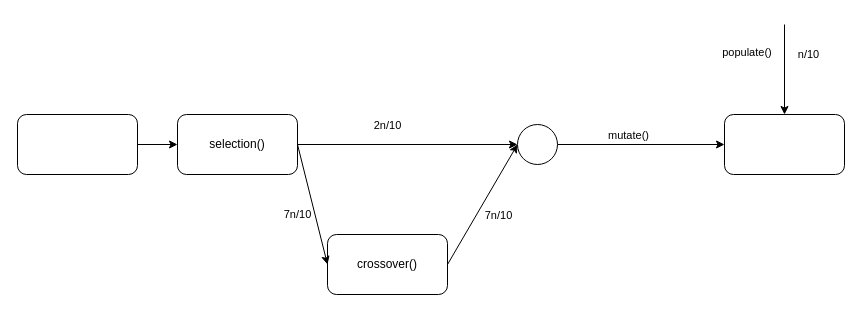
The diagram is 862 pixels wide and 312 high, and some of its shapes have lost their labels. The box of each missing label's shape, as (x1, y1, x2, y2) in pixels:
Gen n: (16, 114, 138, 174)
Gen n+1: (724, 114, 844, 174)
